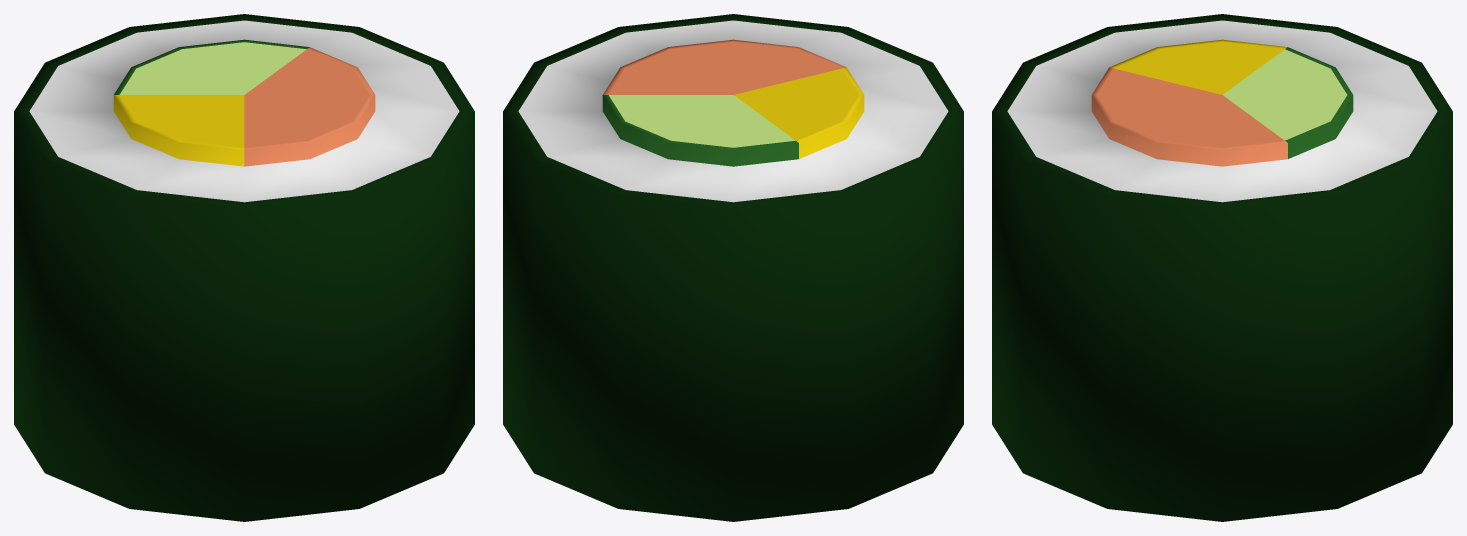
Rendered from SushiRoll.fbx.
3 views of the same model, side by side, from view 1: azimuth 30°, elevation 25°; view 2: azimuth 150°, elevation 25°; view 3: azimuth 270°, elevation 25° (orthographic).
Visible parts, largest first — view 1: sm_sushi; view 2: sm_sushi; view 3: sm_sushi.
Part boxes in pixels (x1,y1,x2,y2): sm_sushi: [14, 14, 474, 521]; sm_sushi: [503, 14, 963, 521]; sm_sushi: [992, 14, 1452, 521].
Size of the model in its own units: 16 by 12.63 by 16.
